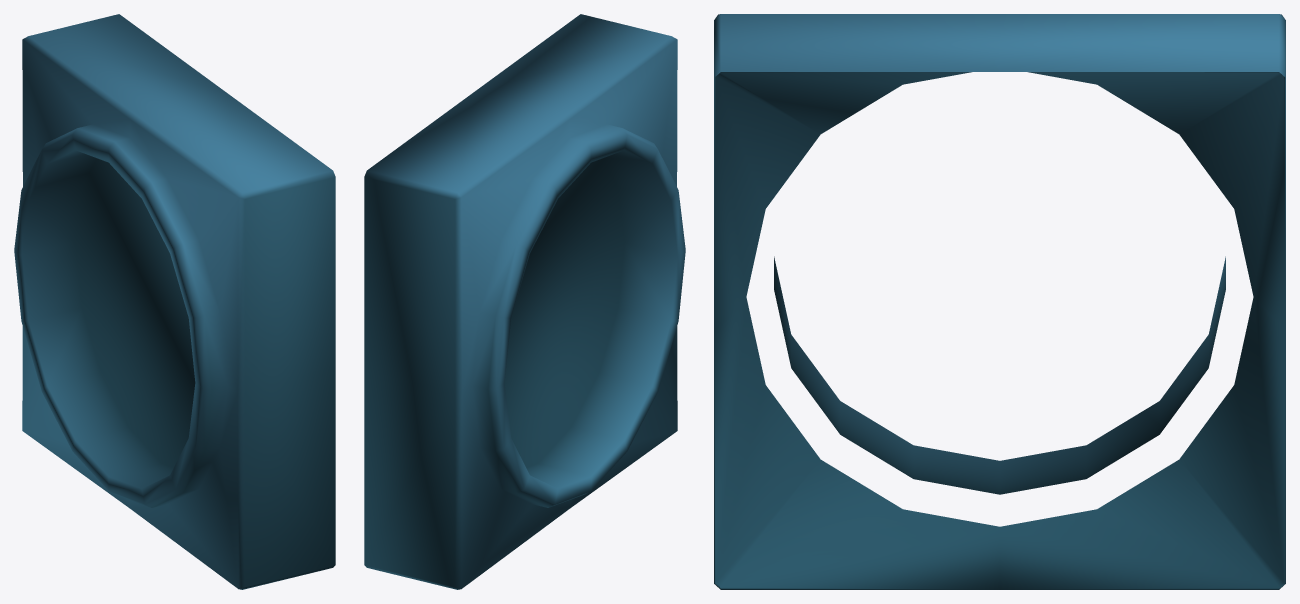
Rendered from FanNight.glb.
3 renders of one model, left to right at view 1: azimuth 30°, elevation 25°; view 2: azimuth 150°, elevation 25°; view 3: azimuth 270°, elevation 25°, orthographic. The views are drawn at different scales.
Parts seen in each view (by area): view 1: FanNight; view 2: FanNight; view 3: FanNight.
Part boxes in pixels (x1,y1,x2,y2): FanNight: (14, 14, 335, 589); FanNight: (364, 14, 685, 589); FanNight: (714, 14, 1285, 589).
Size of the model in its own units: 0.4867 by 1.57 by 1.57.
